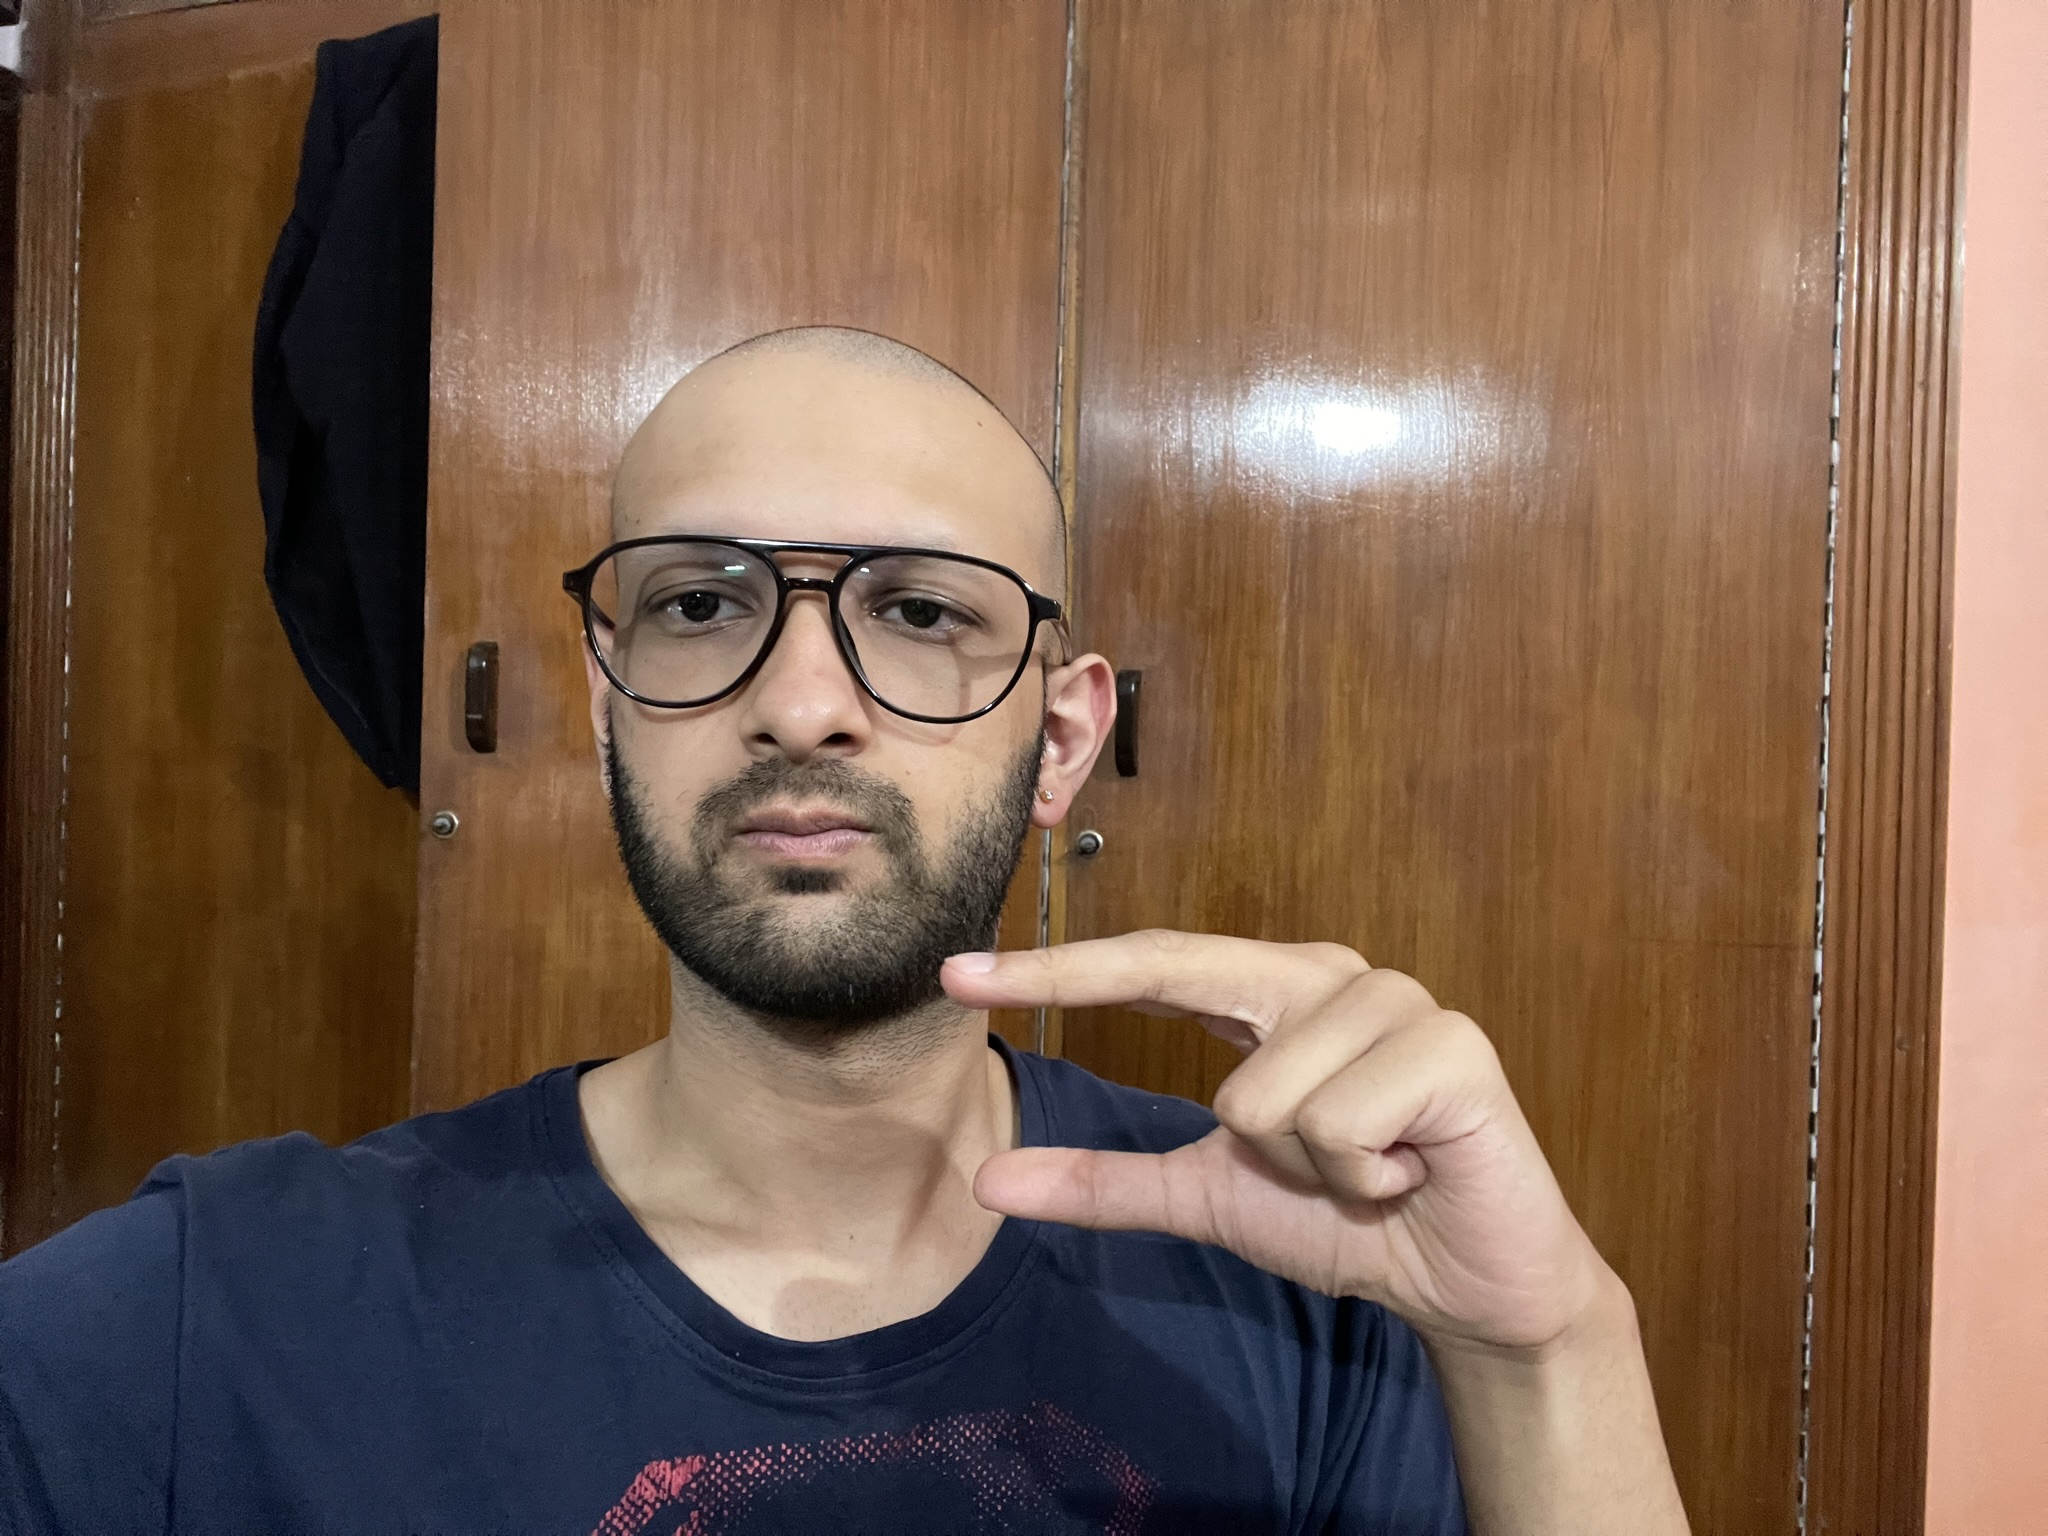No: (924, 928, 1608, 1346)
